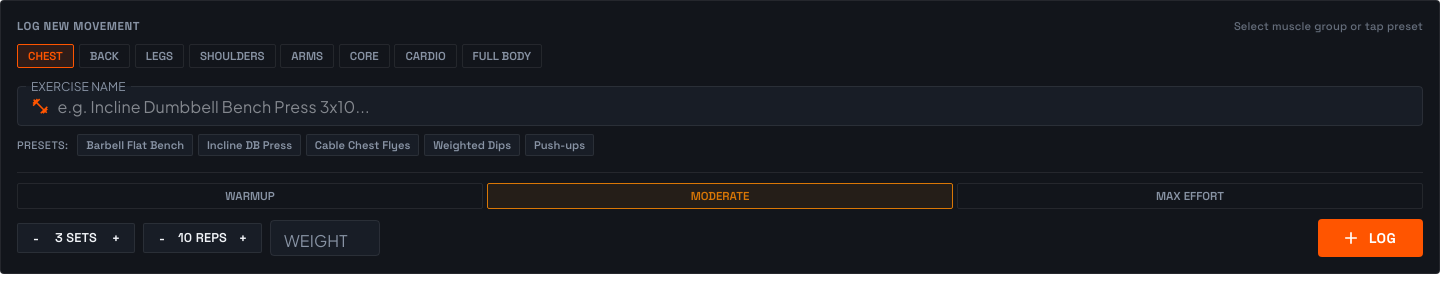
WorkoutInput Component › clicking preset chip populates exercise title field
This screenshot has width=1440, height=291.
Click the button "Barbell Flat Bench": (135, 145) [77,134,193,156]
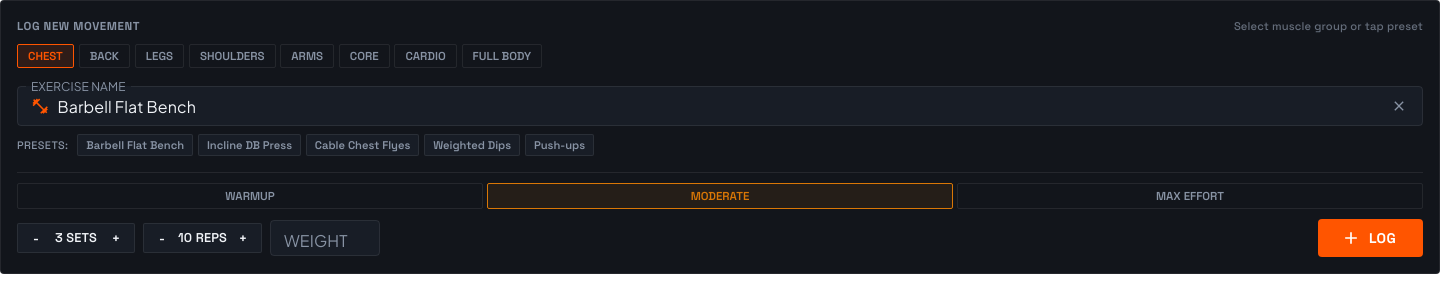
Check: the field with placeholder "e.g. Incline Dumbbell Bench Press 3x10..." holds "Barbell Flat Bench", box [57,86,1381,126]
